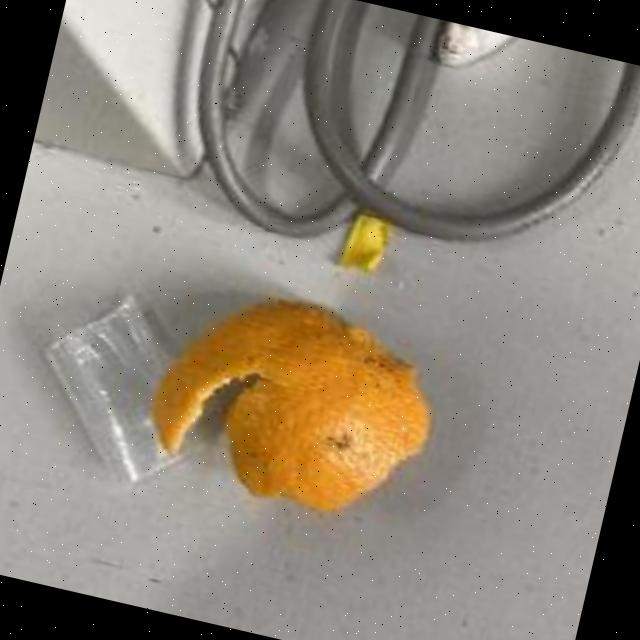orange-peel: (134, 268, 454, 534)
